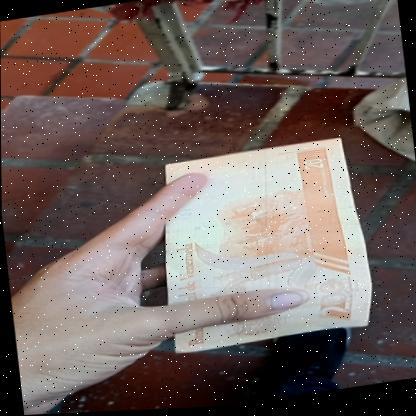twenty-back-vef: (151, 136, 376, 357)
